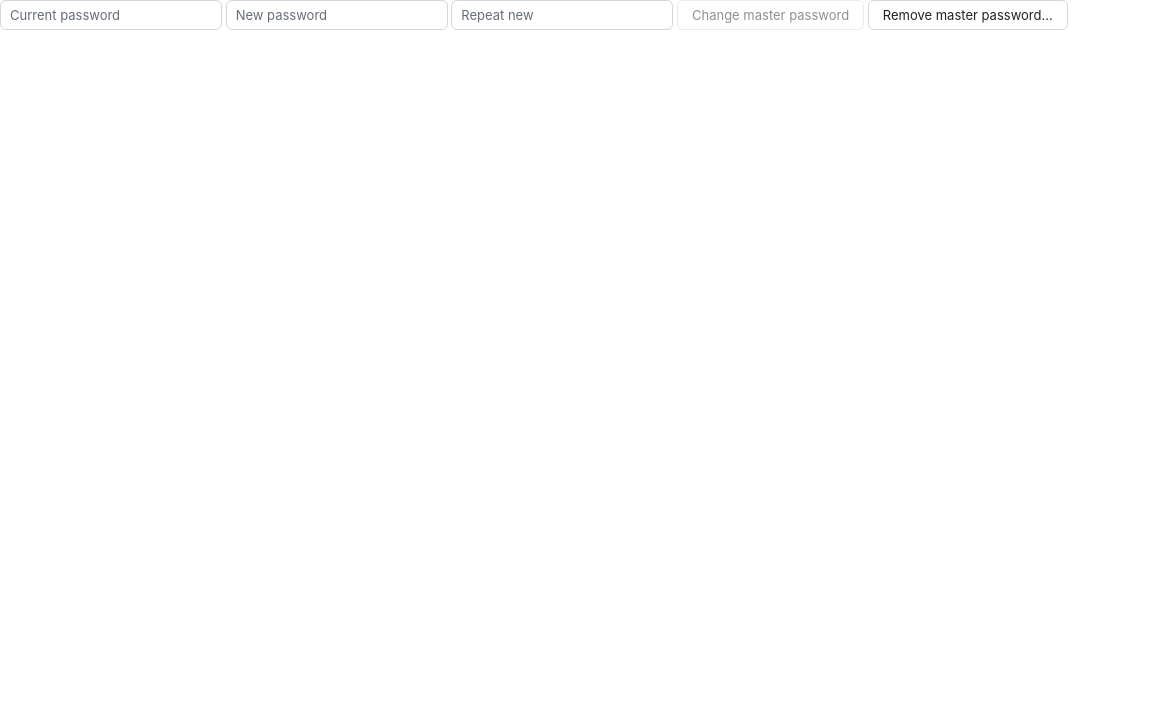
Test: master password settings › removes the password only after confirming it in a dialog
The image size is (1152, 720).
Click the button "Remove master password…".
click(968, 15)  # box [868,0,1068,30]
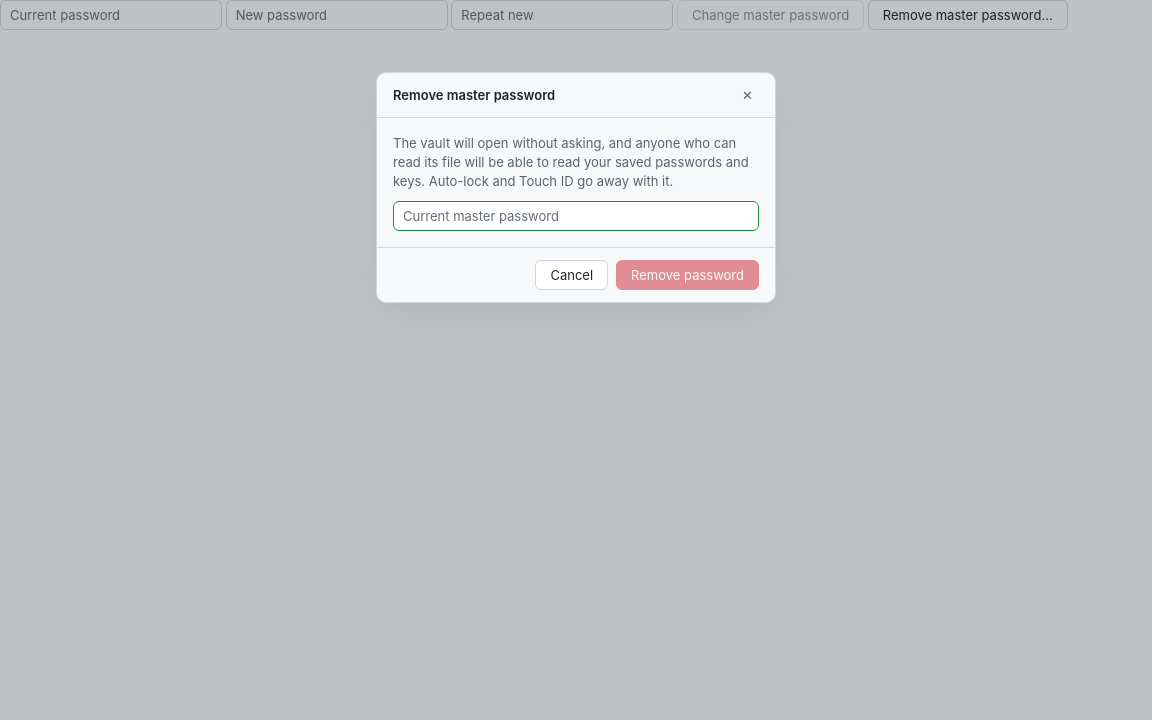
Expected: the button "Remove password" is disabled, [616,260,759,290]
Type "old" into the password field with placeholder "Current master password".
click(576, 216); type("old")  # box [393,200,759,230]
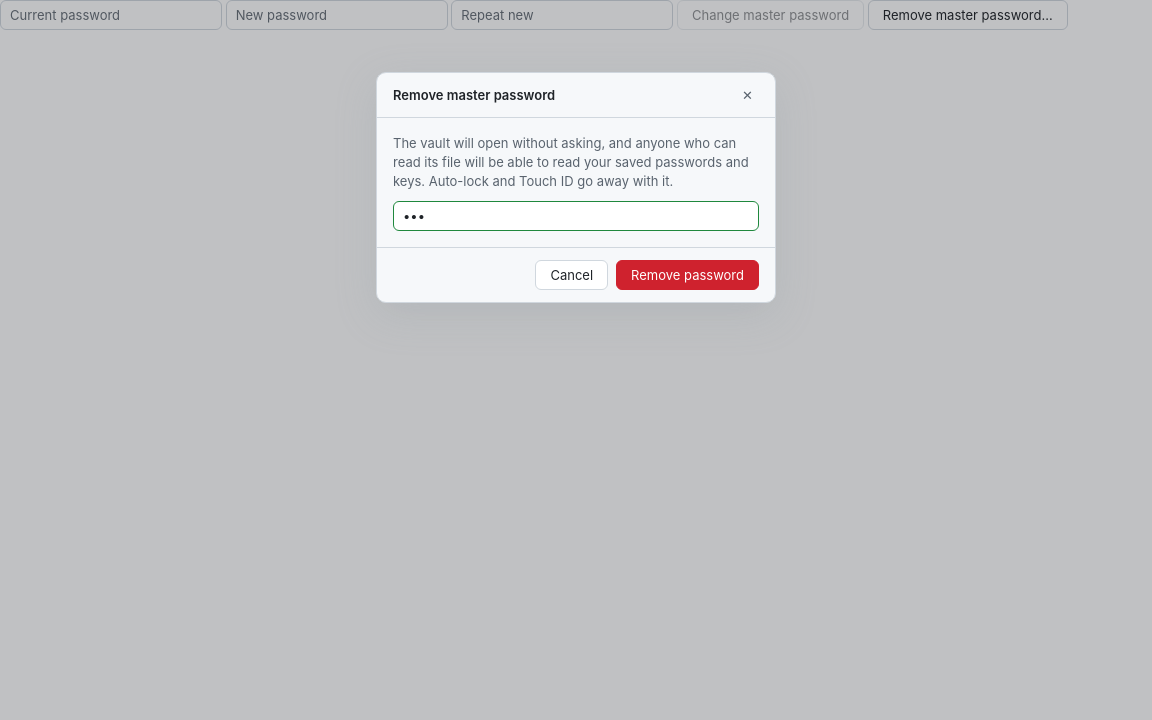
Click the button "Remove password".
click(688, 274)  # box [616,260,759,290]
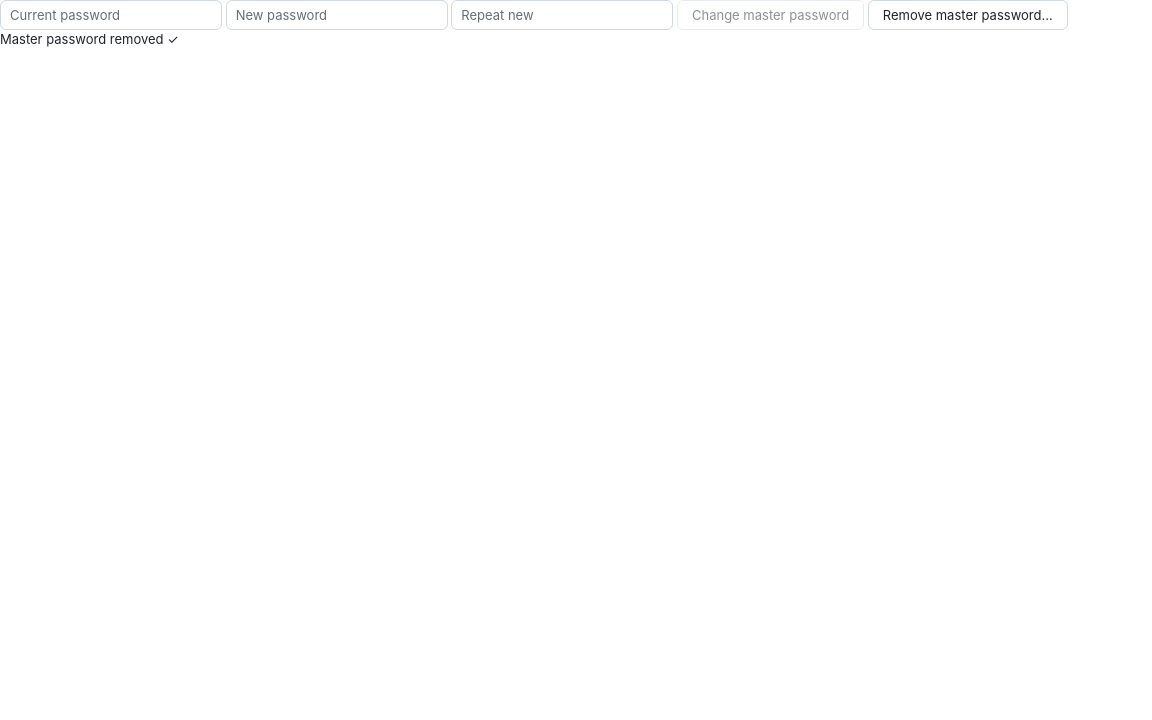
Expected: the text "Master password removed ✓" is shown, [0,31,179,47]
Expected: the dialog is gone
